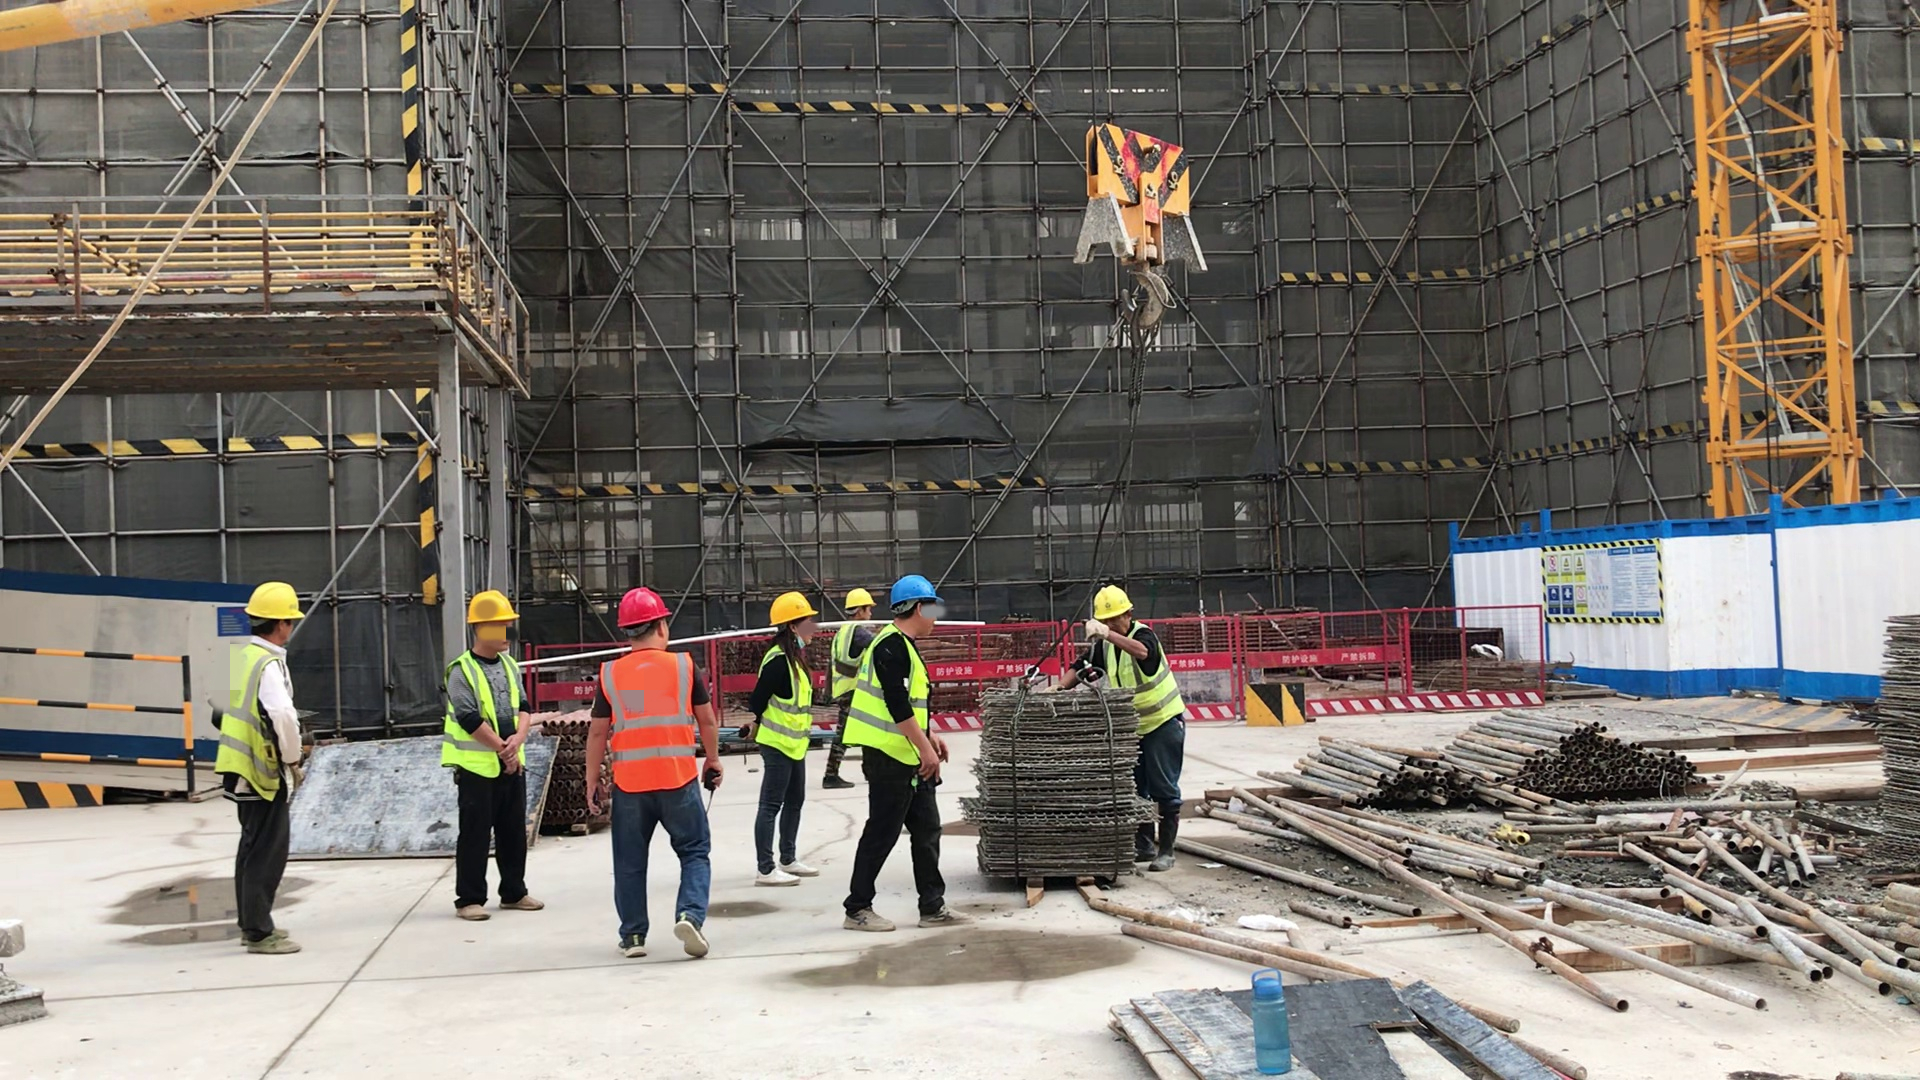helmet: (243, 580, 306, 623), (462, 586, 524, 626), (613, 587, 671, 629), (890, 576, 947, 614), (764, 592, 819, 628), (1092, 588, 1134, 619), (842, 590, 874, 611)
person: (580, 585, 732, 964), (845, 574, 976, 933), (214, 579, 317, 960), (434, 586, 545, 924), (745, 589, 826, 889), (1033, 582, 1176, 688), (832, 590, 876, 699)
vest: (596, 651, 699, 793), (841, 626, 931, 764), (219, 643, 289, 810), (440, 650, 528, 780), (1101, 625, 1187, 738), (759, 645, 816, 765), (828, 622, 870, 701)
